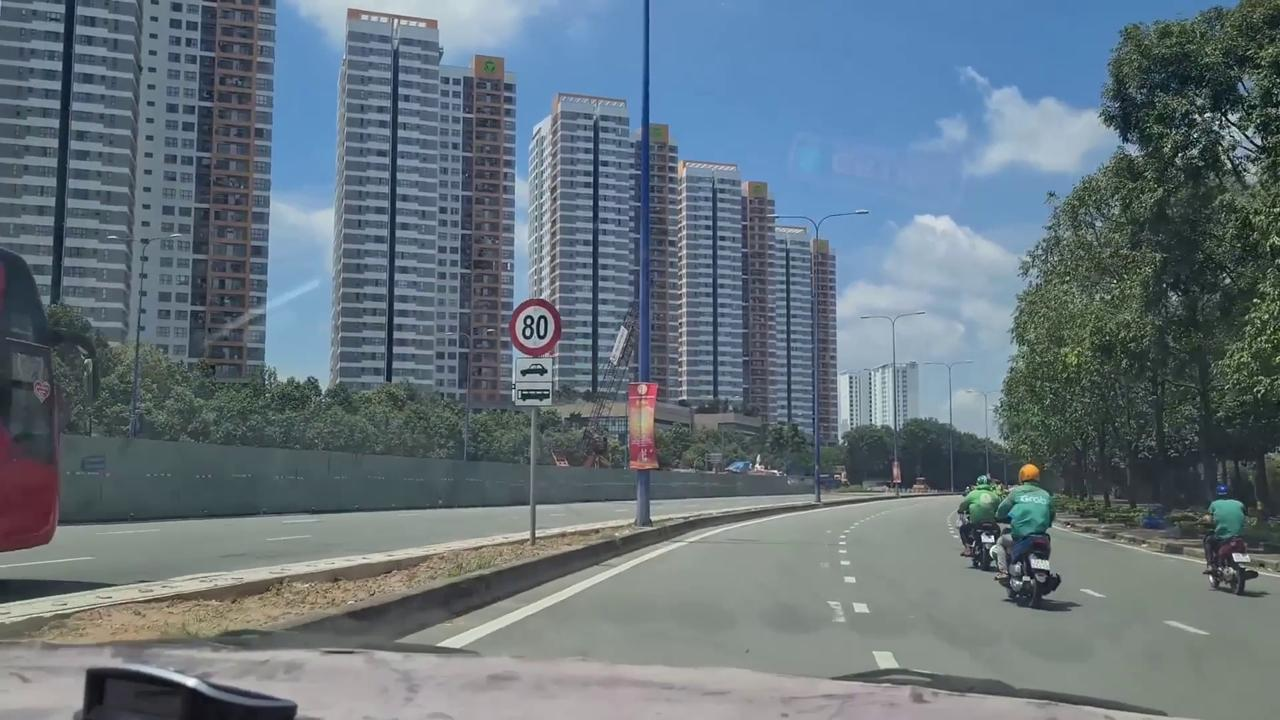Biển phụ: (512, 356, 554, 408)
Giới hạn tốc độ 80Km/h: (508, 297, 563, 356)
